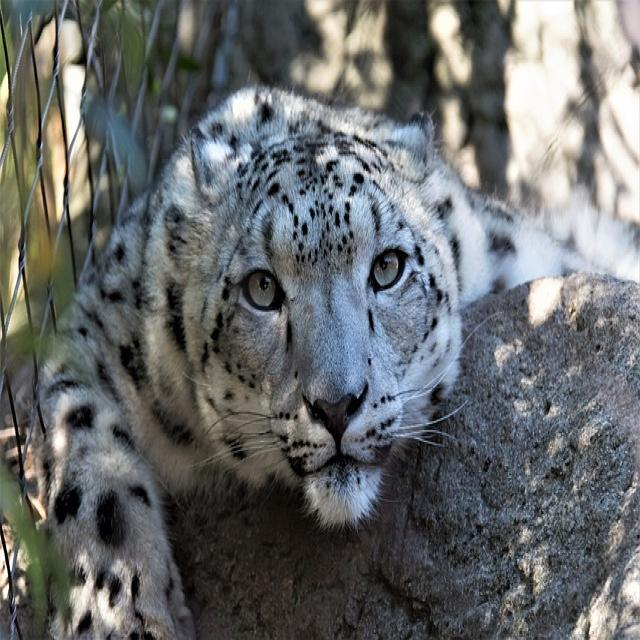Carnivorous: (16, 85, 640, 640)
